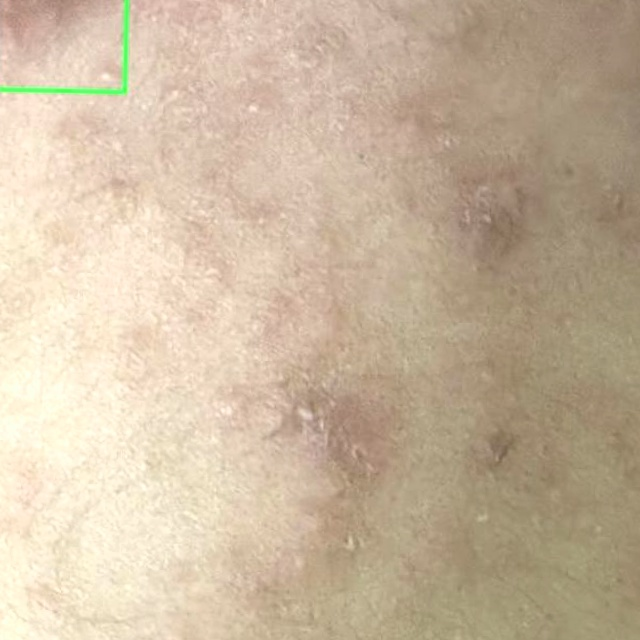Scabies: (0, 0, 126, 92)
